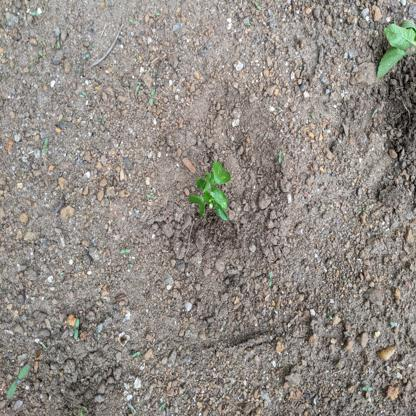weed: (188, 162, 235, 223), (372, 18, 416, 81)
